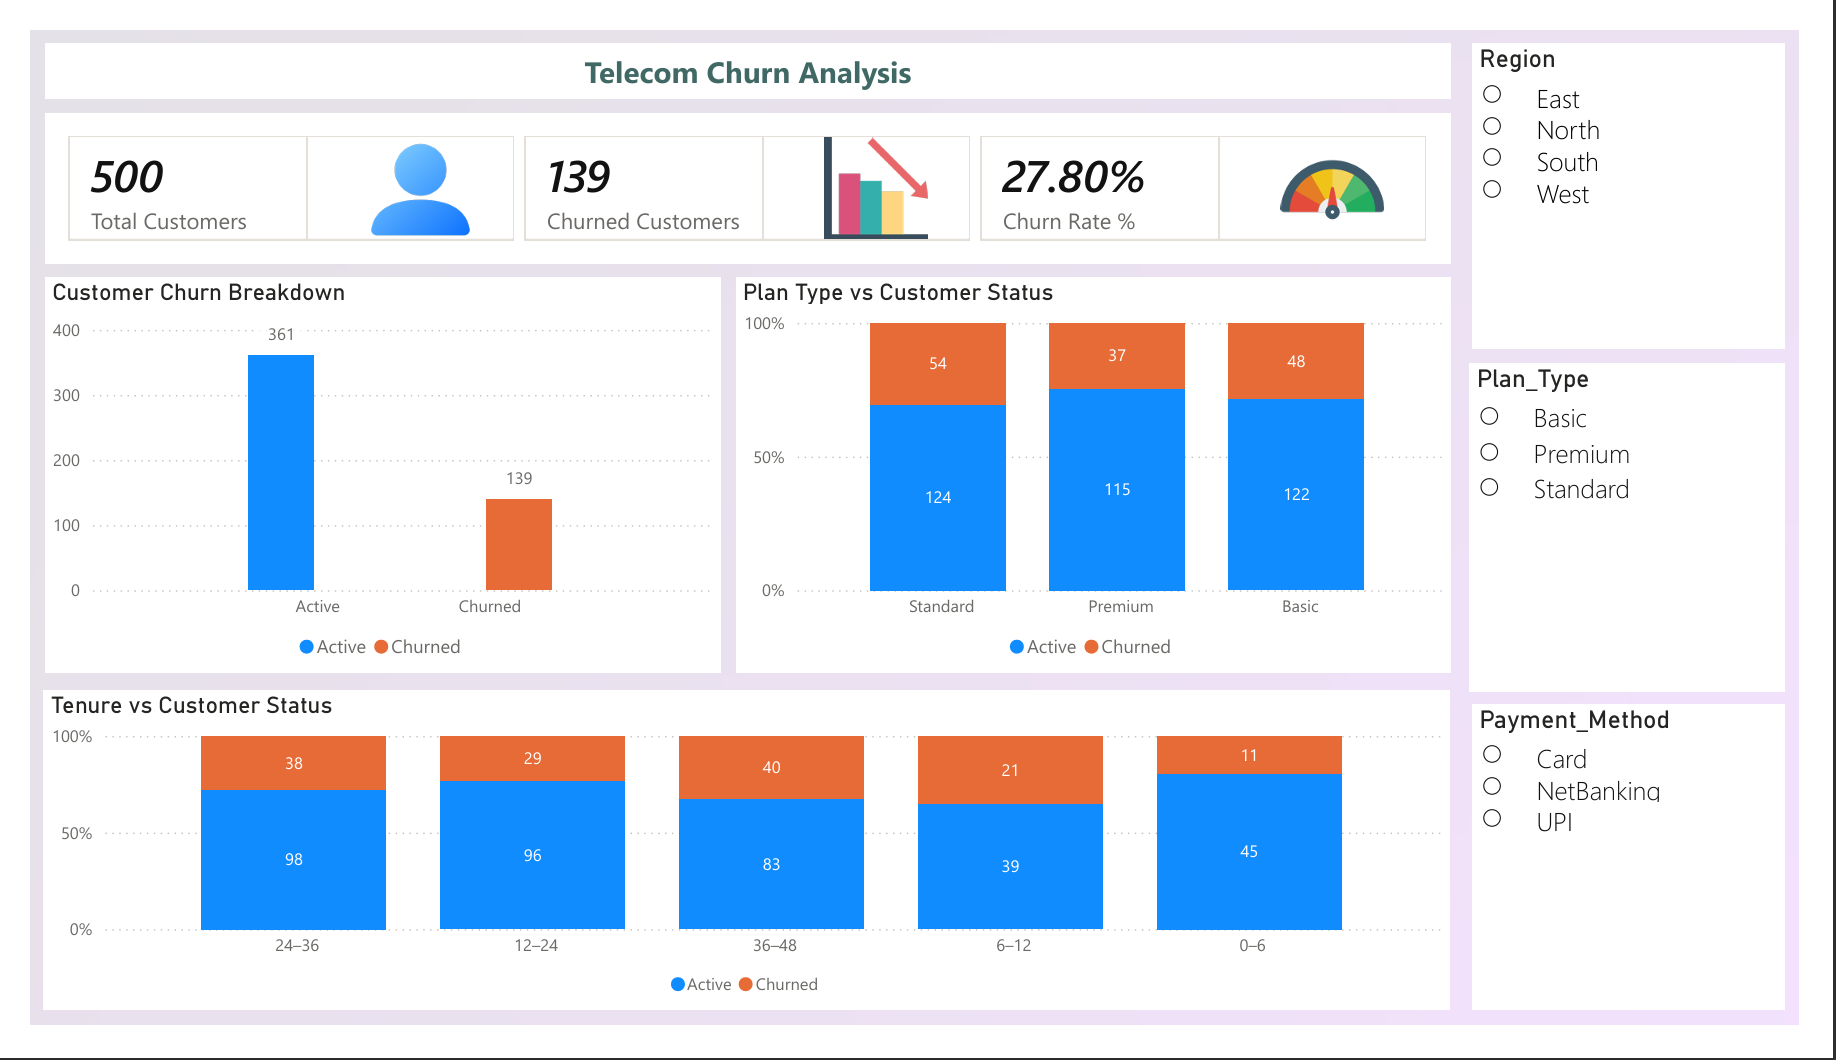

This screenshot's page, from the dashboard's own definition file:
{"tool":"powerbi","page":{"name":"Page 1","canvas":[1280,720],"ordinal":0},"visuals":[{"type":"lineClusteredColumnComboChart","title":"Customer Churn Breakdown","fields":{"Category":["customers.Customer Status"],"Y":["CountNonNull(customers.customer_id)"],"Series":["customers.Customer Status"]},"box":[11.2,179.1,488.9,286.1],"z":0},{"type":"hundredPercentStackedColumnChart","title":"Plan Type vs Customer Status","fields":{"Y":["CountNonNull(customers.customer_id)"],"Category":["customers.plan_type"],"Series":["customers.Customer Status"]},"box":[511.3,179.1,516.2,286.1],"z":1000},{"type":"hundredPercentStackedColumnChart","title":"Tenure vs Customer Status","fields":{"Category":["customers.Tenure Group"],"Y":["CountNonNull(customers.customer_id)"],"Series":["customers.Customer Status"]},"box":[10,477.7,1017.6,231.4],"z":2000},{"type":"listSlicer","title":"Region","fields":{"Values":["customers.region"]},"box":[1043.7,10,226.4,221.4],"z":3000},{"type":"listSlicer","title":"Plan_Type","fields":{"Values":["customers.plan_type"]},"box":[1042.4,241.3,227.6,237.6],"z":4000},{"type":"listSlicer","title":"Payment_Method","fields":{"Values":["transactions.payment_method"]},"box":[1043.7,487.6,226.4,221.4],"z":5000},{"type":"cardVisual","fields":{"Data":["customers.t Customers","customers.Churned Customers","customers.Churn Rate %"]},"box":[11.2,59.7,1016.3,109.5],"z":6000},{"type":"textbox","box":[11.2,10,1016.3,39.8],"z":7000}]}

Visuals, with their boxes in screenshot pixels (x1, y1, x2, y2), scaled from the page's 1280x720 canvas onto the 1836x1060 screenshot:
"Customer Churn Breakdown" lineClusteredColumnComboChart: [16,264,717,685]
"Plan Type vs Customer Status" hundredPercentStackedColumnChart: [733,264,1474,685]
"Tenure vs Customer Status" hundredPercentStackedColumnChart: [14,703,1474,1044]
"Region" listSlicer: [1497,15,1822,341]
"Plan_Type" listSlicer: [1495,355,1822,705]
"Payment_Method" listSlicer: [1497,718,1822,1044]
cardVisual - customers.t Customers x customers.Churned Customers: [16,88,1474,249]
textbox: [16,15,1474,73]
